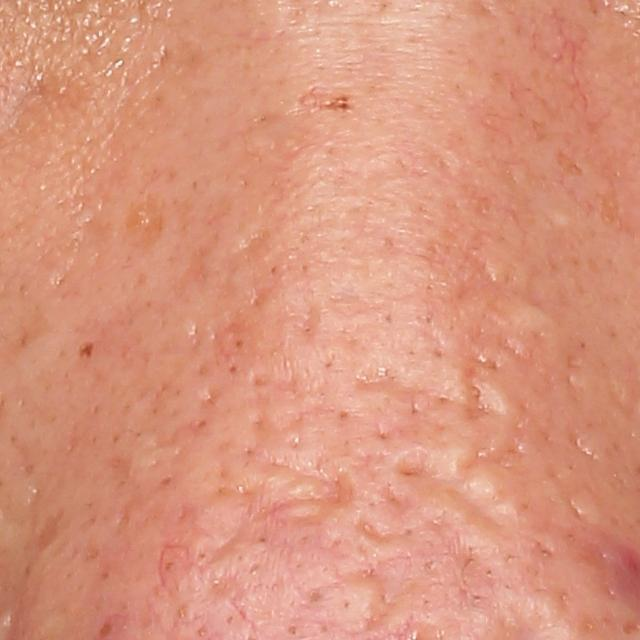atrophic_scar: (193, 469, 298, 575), (396, 450, 516, 529), (207, 303, 259, 371), (280, 285, 327, 349), (459, 371, 510, 423), (452, 251, 505, 301), (448, 546, 503, 593), (357, 369, 428, 405), (228, 220, 268, 258), (380, 485, 420, 513), (357, 518, 394, 546)
